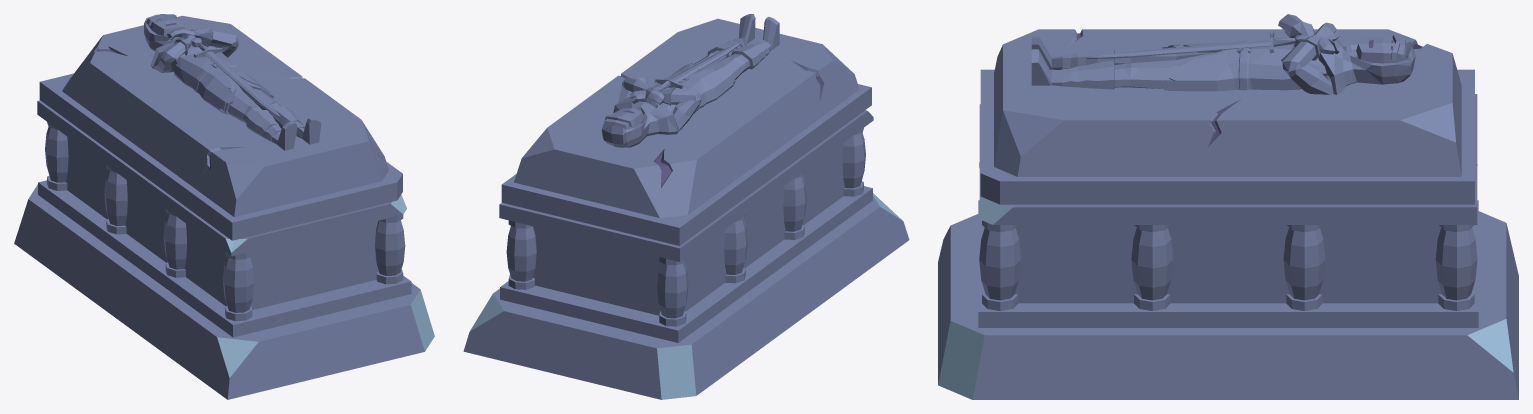
Rendered from Sarcophage 04.fbx.
The picture shows the model from 3 angles, left to right: view 1: azimuth 30°, elevation 25°; view 2: azimuth 150°, elevation 25°; view 3: azimuth 270°, elevation 25°; orthographic projection. The views are drawn at different scales.
Visible parts, largest first — view 1: Sarcophage 04, Sarcophage 04 Lid.001, Sarcophage 04 Lid.002, Sarcophage 04 Lid.003; view 2: Sarcophage 04, Sarcophage 04 Lid.003, Sarcophage 04 Lid.002, Sarcophage 04 Lid.001; view 3: Sarcophage 04, Sarcophage 04 Lid.002, Sarcophage 04 Lid.001, Sarcophage 04 Lid.003.
Boxes of the visible parts, x1,y1,x2,y2 form: Sarcophage 04: [14, 100, 434, 399]; Sarcophage 04 Lid.001: [148, 94, 402, 240]; Sarcophage 04 Lid.002: [102, 27, 341, 179]; Sarcophage 04 Lid.003: [39, 14, 240, 145]; Sarcophage 04: [463, 110, 909, 399]; Sarcophage 04 Lid.003: [501, 107, 742, 245]; Sarcophage 04 Lid.002: [557, 46, 788, 199]; Sarcophage 04 Lid.001: [659, 14, 871, 165]; Sarcophage 04: [938, 94, 1518, 399]; Sarcophage 04 Lid.002: [1105, 14, 1379, 204]; Sarcophage 04 Lid.001: [980, 29, 1186, 204]; Sarcophage 04 Lid.003: [1335, 29, 1474, 204].
Size of the model in its own units: 204 by 209 by 363.
